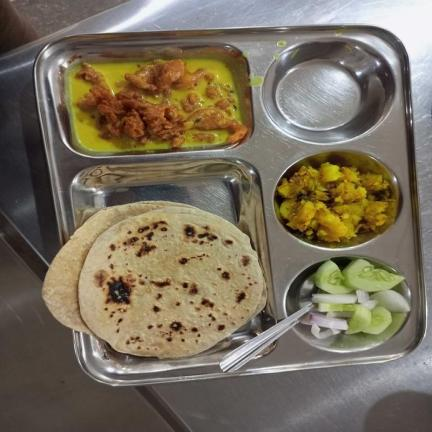Curry: (70, 56, 246, 152)
Plate: (33, 24, 428, 386)
Roti: (40, 201, 268, 359)
Salad: (298, 257, 413, 338)
Zeera Aalu: (279, 162, 391, 243)
